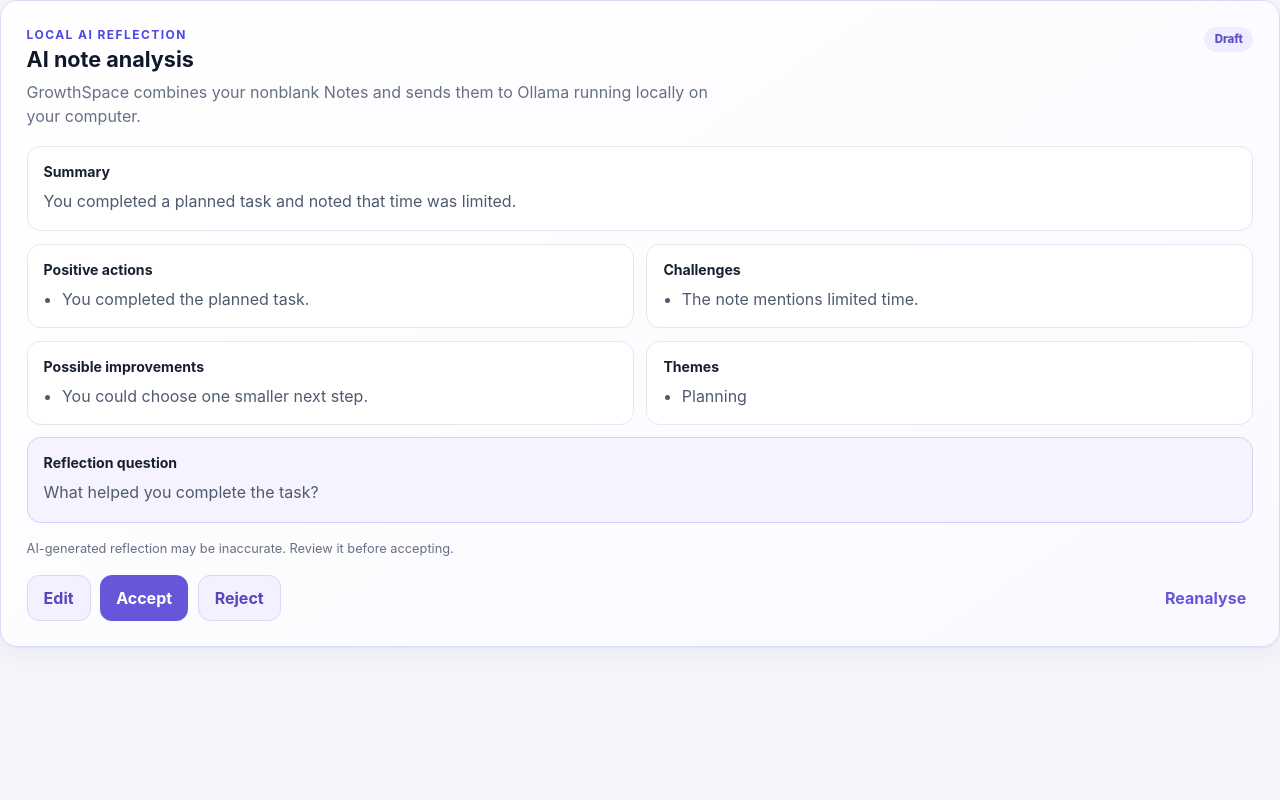
Test: NoteAnalysisPanel › accepts and rejects an analysis
This screenshot has width=1280, height=800.
Click the button "Accept": [144, 598] box top-left (100, 574), bottom-right (188, 620)
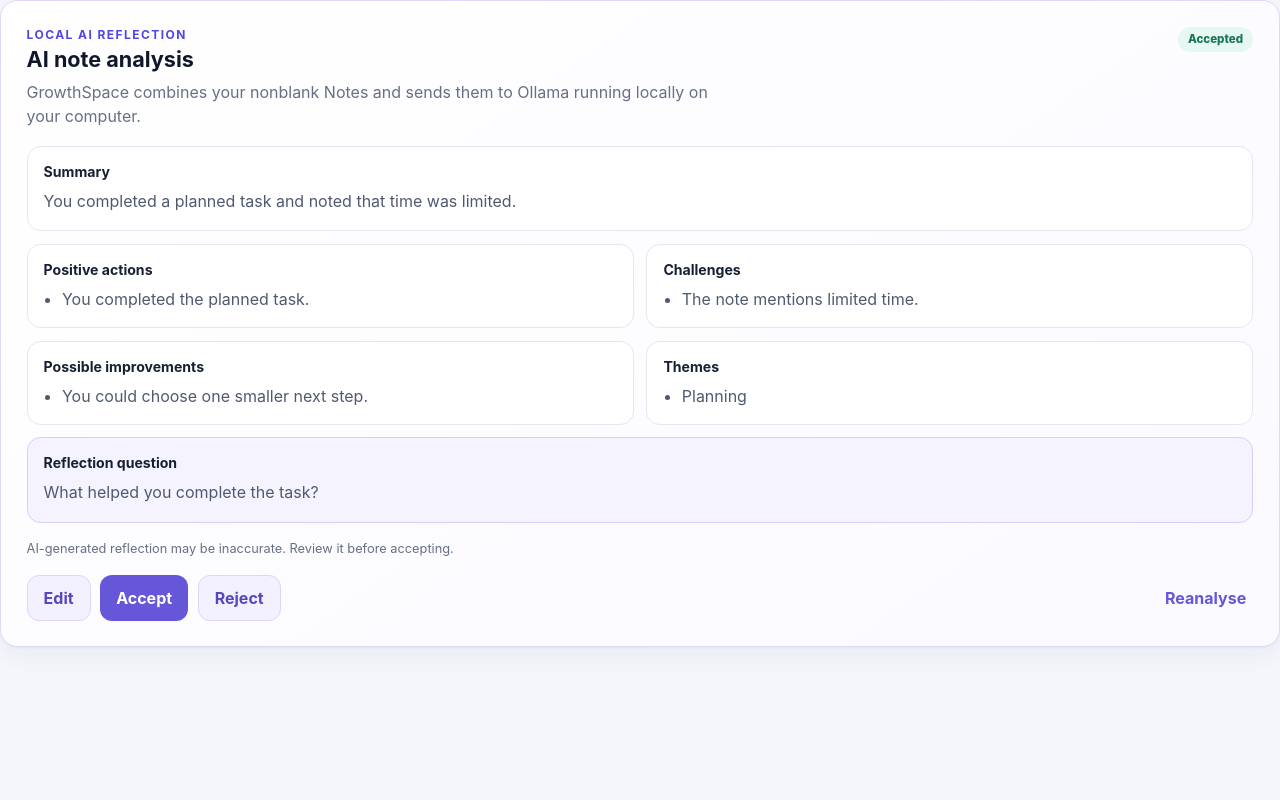
Expected: the text "accepted" is shown, top-left (1178, 27), bottom-right (1253, 52)
Click the button "Reject": [239, 598] box top-left (198, 574), bottom-right (281, 620)
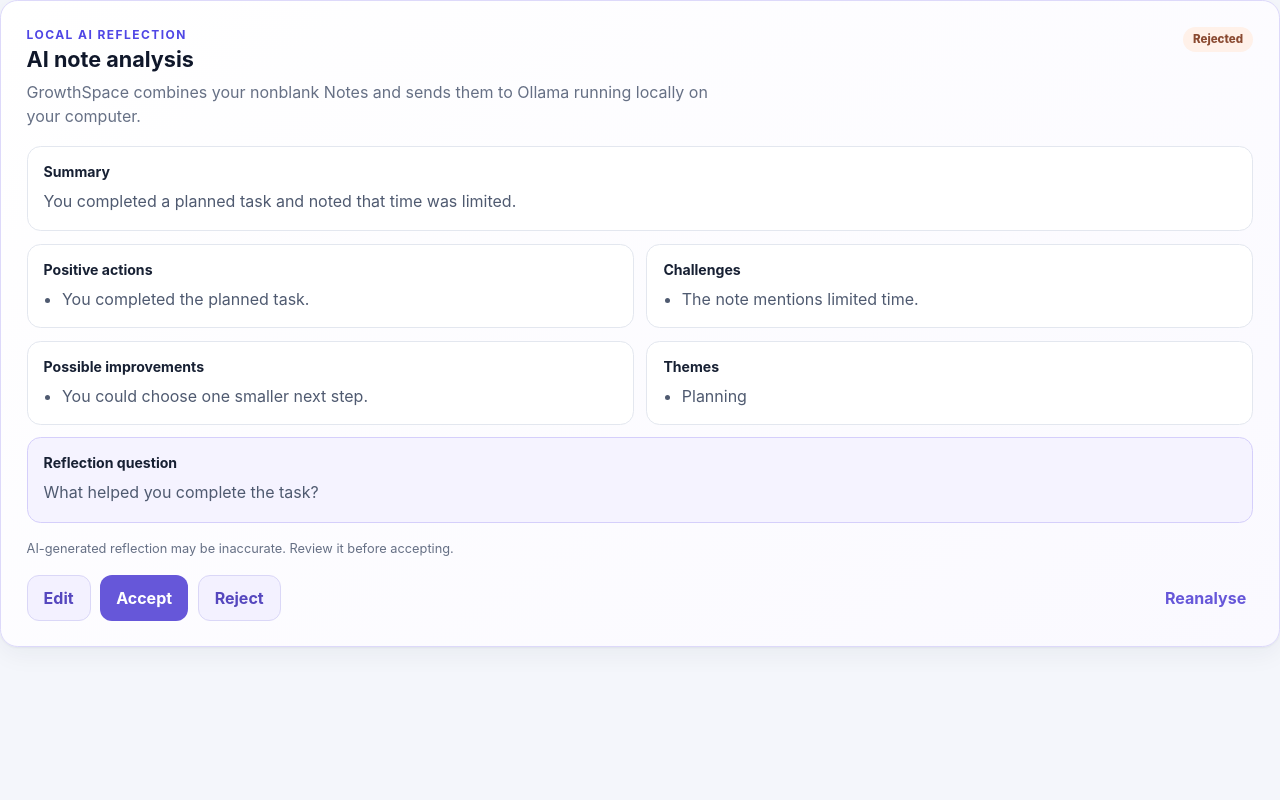
Expected: the text "rejected" is shown, top-left (1183, 27), bottom-right (1253, 52)
